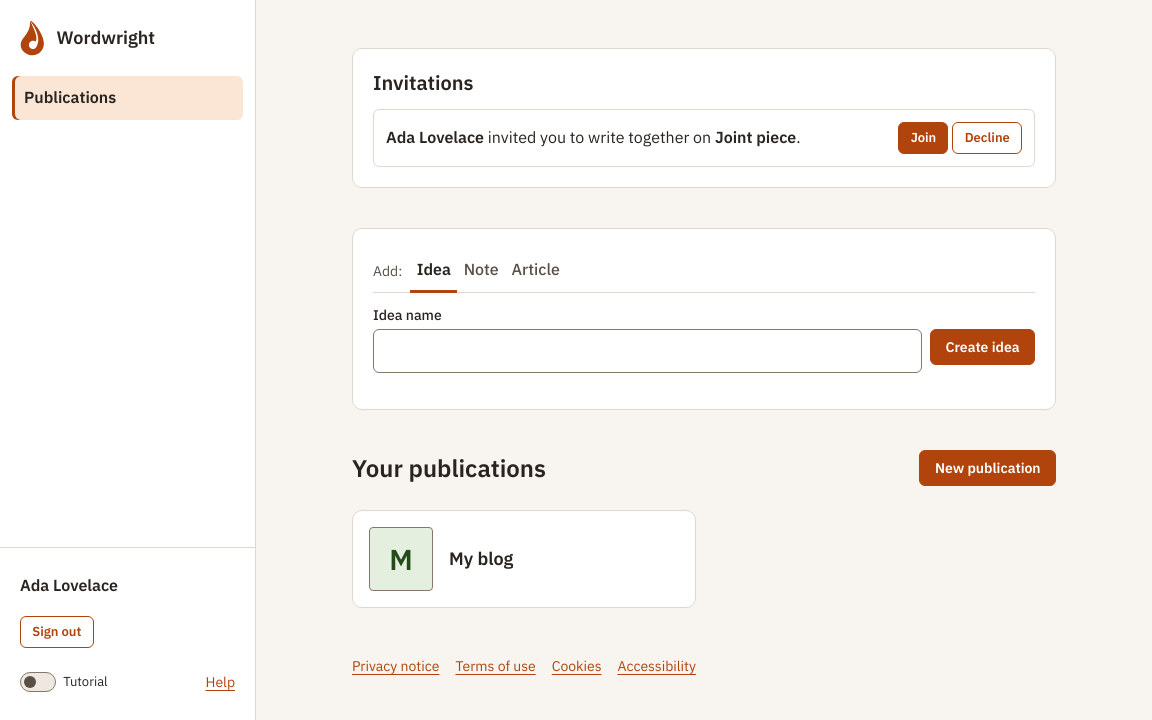
Scenario: Home: invitations waiting for you › declines, optionally stopping invitations from the sender, without telling them
Click the button with aria-label "Decline Joint piece": (987, 138) left=952, top=122, right=1022, bottom=154
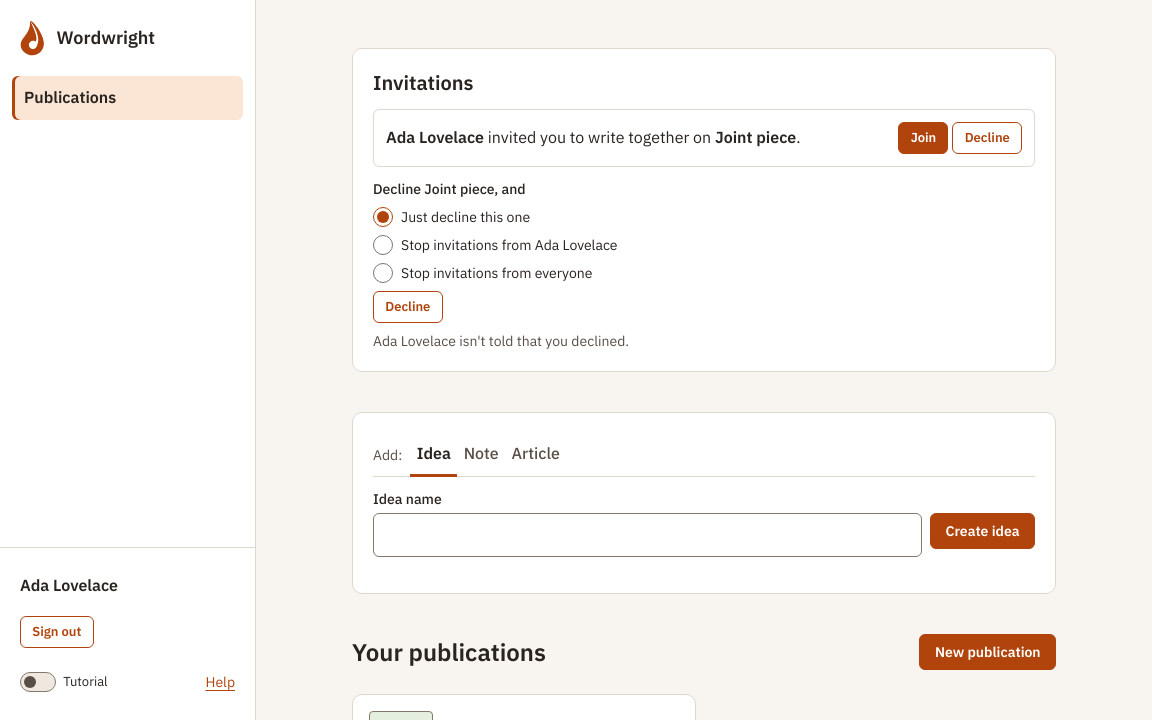
Expected: the text "Ada Lovelace isn't told that you declined." is shown, left=373, top=332, right=629, bottom=350
Click the radio button labelled "Stop invitations from Ada Lovelace": (383, 245) left=373, top=235, right=393, bottom=255
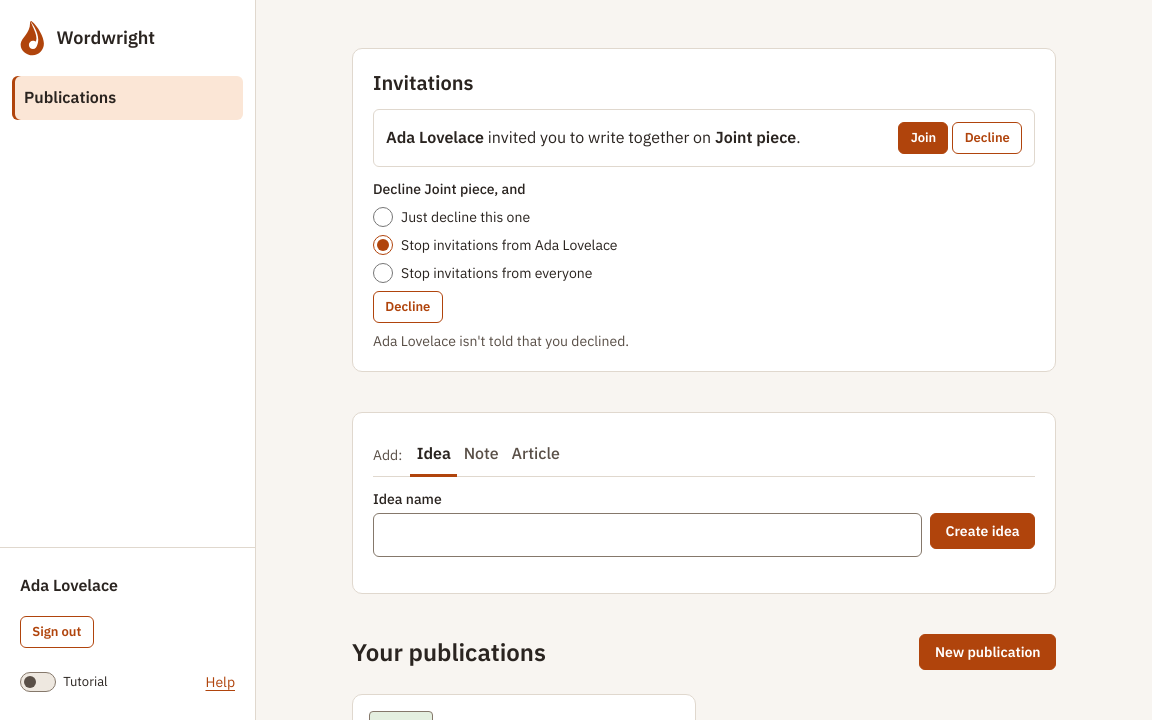
Click the button "Decline" below "Stop invitations from everyone": (408, 307) left=373, top=291, right=443, bottom=323
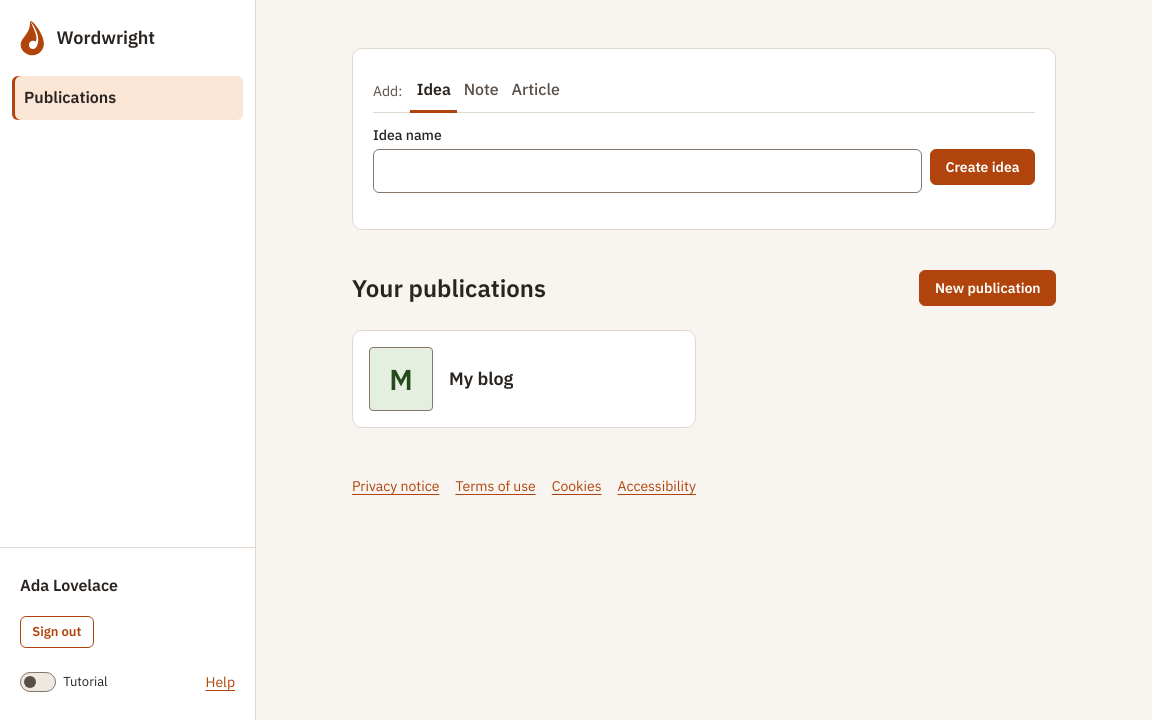
Expected: the heading "Invitations" is gone
